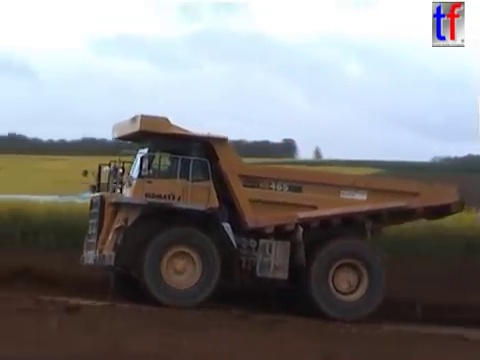truck: (77, 111, 467, 324)
